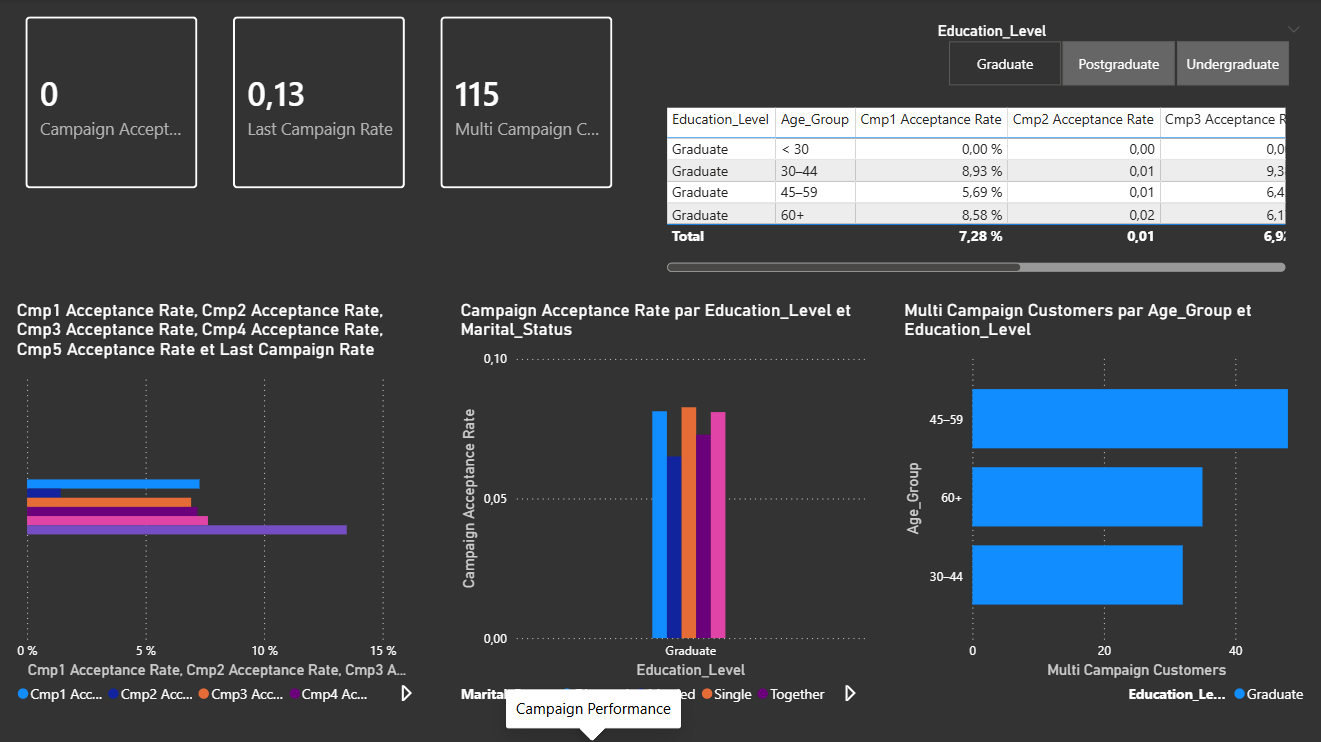

Layout of this report page (visuals, bound fields, positions):
{"tool":"powerbi","page":{"name":"Campaign Performance","canvas":[1280,720],"ordinal":2},"visuals":[{"type":"cardVisual","fields":{"Data":["_Measures.Campaign Acceptance Rate"]},"box":[10,0,200,200],"z":0},{"type":"cardVisual","fields":{"Data":["_Measures.Last Campaign Rate"]},"box":[210,0,200,200],"z":1000},{"type":"cardVisual","fields":{"Data":["_Measures.Multi Campaign Customers"]},"box":[410,0,200,200],"z":2000},{"type":"clusteredBarChart","fields":{"Y":["_Measures.Cmp1 Acceptance Rate","_Measures.Cmp2 Acceptance Rate","_Measures.Cmp3 Acceptance Rate","_Measures.Cmp4 Acceptance Rate","_Measures.Cmp5 Acceptance Rate","_Measures.Last Campaign Rate"]},"box":[12.9,290,400,400],"z":3000},{"type":"clusteredColumnChart","fields":{"Category":["Dim_Customers.Education_Level"],"Y":["_Measures.Campaign Acceptance Rate"],"Series":["Dim_Customers.Marital_Status"]},"box":[441.4,290,400,400],"z":4000},{"type":"clusteredBarChart","fields":{"Category":["Dim_Customers.Age_Group"],"Y":["_Measures.Multi Campaign Customers"],"Series":["Dim_Customers.Education_Level"]},"box":[870,290,400,400],"z":5000},{"type":"tableEx","fields":{"Values":["Dim_Customers.Education_Level","Dim_Customers.Age_Group","_Measures.Cmp1 Acceptance Rate","_Measures.Cmp2 Acceptance Rate","_Measures.Cmp3 Acceptance Rate","_Measures.Cmp4 Acceptance Rate","_Measures.Cmp5 Acceptance Rate","_Measures.Last Campaign Rate"]},"box":[640,100,608.6,168.6],"z":6000},{"type":"slicer","fields":{"Values":["Dim_Customers.Education_Level"]},"box":[894.3,17.1,375.7,71.4],"z":7000}]}

Visuals, with their boxes in screenshot pixels (x1, y1, x2, y2), scaled from the page's 1280x720 canvas onto the 1321x742 screenshot:
cardVisual - _Measures.Campaign Acceptance Rate: (10, 0, 217, 206)
cardVisual - _Measures.Last Campaign Rate: (217, 0, 423, 206)
cardVisual - _Measures.Multi Campaign Customers: (423, 0, 630, 206)
clusteredBarChart - _Measures.Cmp1 Acceptance Rate x _Measures.Cmp2 Acceptance Rate: (13, 299, 426, 711)
clusteredColumnChart - Dim_Customers.Education_Level x _Measures.Campaign Acceptance Rate: (456, 299, 868, 711)
clusteredBarChart - Dim_Customers.Age_Group x _Measures.Multi Campaign Customers: (898, 299, 1311, 711)
tableEx - Dim_Customers.Education_Level x Dim_Customers.Age_Group: (660, 103, 1289, 277)
slicer - Dim_Customers.Education_Level: (923, 18, 1311, 91)
